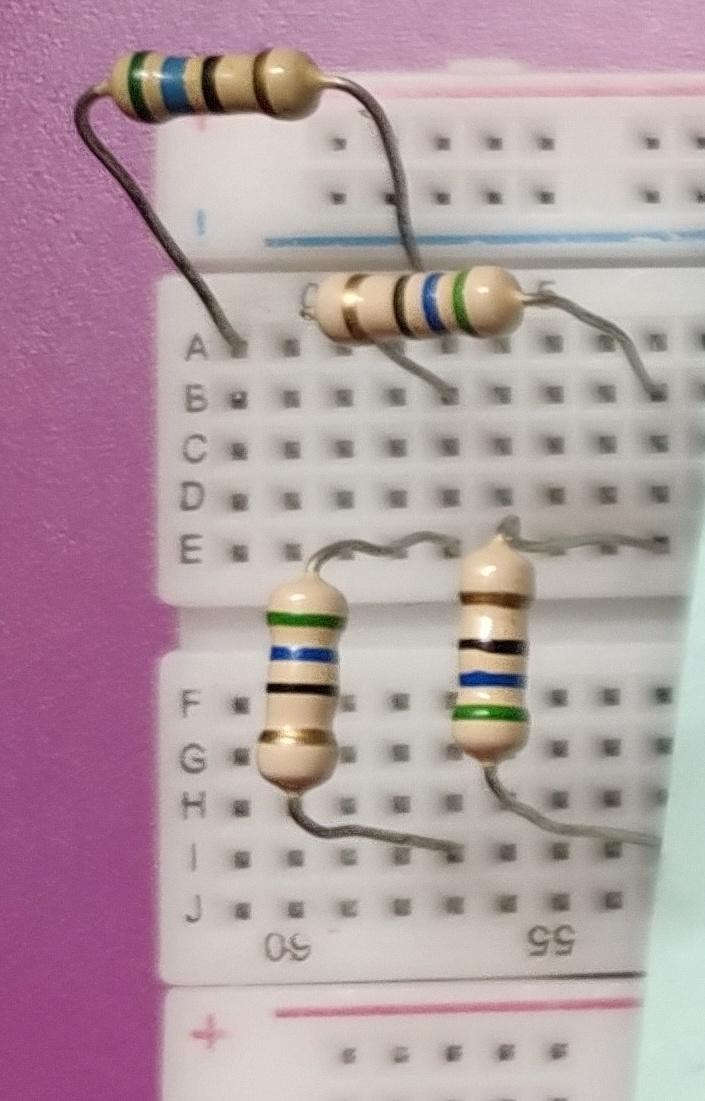resistor: (78, 25, 365, 168), (262, 240, 552, 363), (422, 525, 550, 768), (245, 545, 355, 810)
